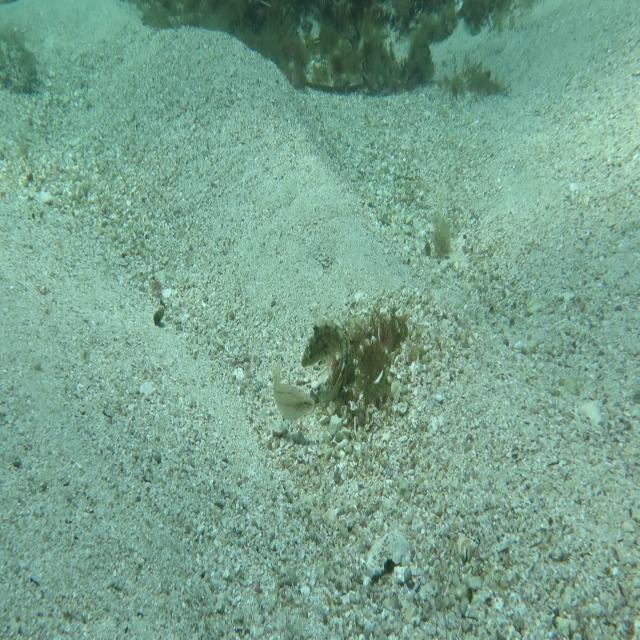BEND: (300, 311, 357, 409)
female: (272, 355, 317, 426)
nest: (302, 292, 416, 423)
vegetation: (110, 0, 516, 45), (236, 50, 415, 107), (425, 225, 453, 278)
